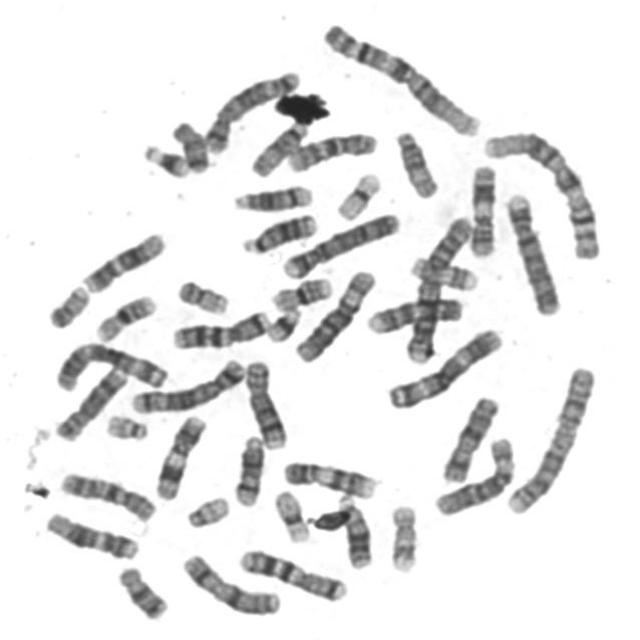A1: (318, 16, 488, 139), (478, 124, 605, 262)
A2: (502, 360, 601, 516), (402, 210, 478, 365)
A3: (383, 321, 508, 411), (49, 336, 174, 394)
B4: (279, 206, 404, 280), (502, 186, 566, 317)
B5: (201, 64, 305, 154), (127, 353, 250, 415)
C10: (56, 466, 162, 524), (283, 125, 381, 173)
C11: (152, 409, 210, 501), (466, 158, 502, 258)
C12: (79, 225, 171, 295), (40, 505, 144, 562)
C6: (292, 262, 380, 364), (430, 430, 521, 517)
C7: (235, 543, 352, 603), (167, 302, 275, 350)
C8: (51, 362, 133, 444), (240, 353, 293, 451)
C9: (362, 290, 468, 337), (278, 453, 381, 500)
D13: (239, 207, 322, 256), (333, 488, 376, 570)
D14: (229, 177, 318, 213), (230, 429, 269, 509)
D15: (246, 116, 312, 178), (392, 124, 444, 200)
E16: (92, 287, 162, 343), (269, 270, 337, 312)
E17: (407, 249, 482, 293), (386, 498, 424, 574)
E18: (114, 559, 174, 622), (168, 114, 214, 174)
F19: (332, 166, 386, 222), (270, 484, 315, 544)
F20: (172, 273, 234, 316), (44, 278, 94, 330)
G21: (138, 137, 194, 180), (263, 301, 306, 344)
G22: (182, 490, 234, 530), (102, 409, 152, 442)
X: (178, 547, 285, 618), (438, 388, 504, 485)
